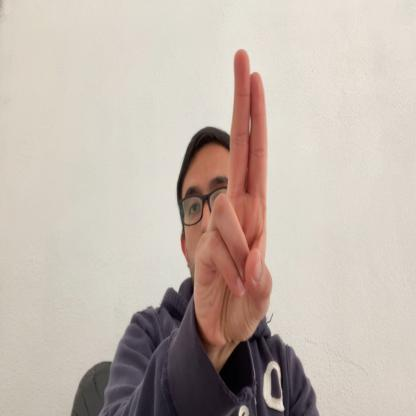U: (194, 47, 273, 354)
